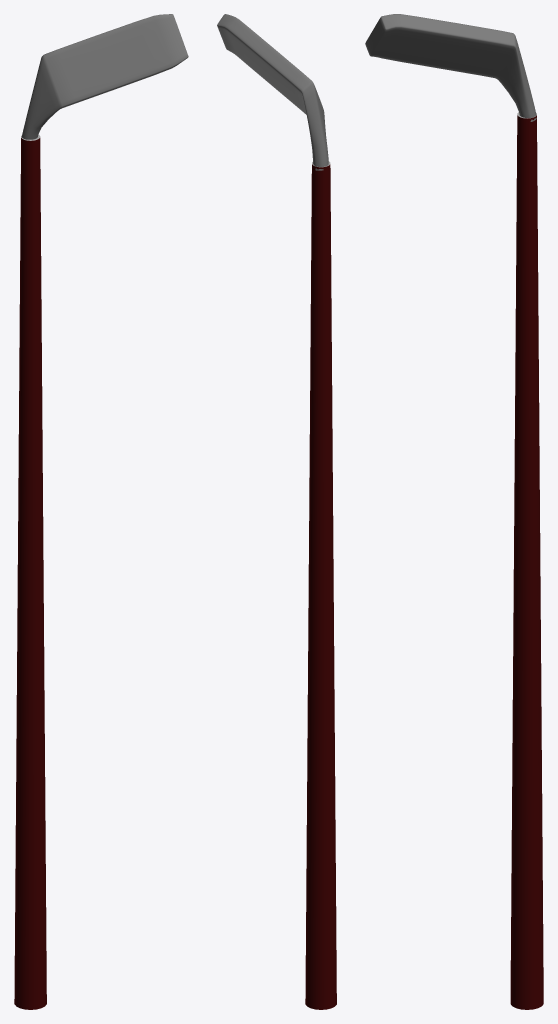
File: SM_PALO.fbx
3 views of the same model, side by side, from view 1: azimuth 90°, elevation 25°; view 2: azimuth 210°, elevation 25°; view 3: azimuth 270°, elevation 25° (orthographic). The views are drawn at different scales.
Visible parts, largest first — view 1: Cylinder004; view 2: Cylinder004; view 3: Cylinder004.
Boxes of the visible parts, left/top/right/bottom form: Cylinder004: left=14, top=14, right=188, bottom=1009; Cylinder004: left=217, top=14, right=336, bottom=1009; Cylinder004: left=365, top=14, right=543, bottom=1009.
Bounding box in the file's own units: 17.94 × 295 × 47.72.
